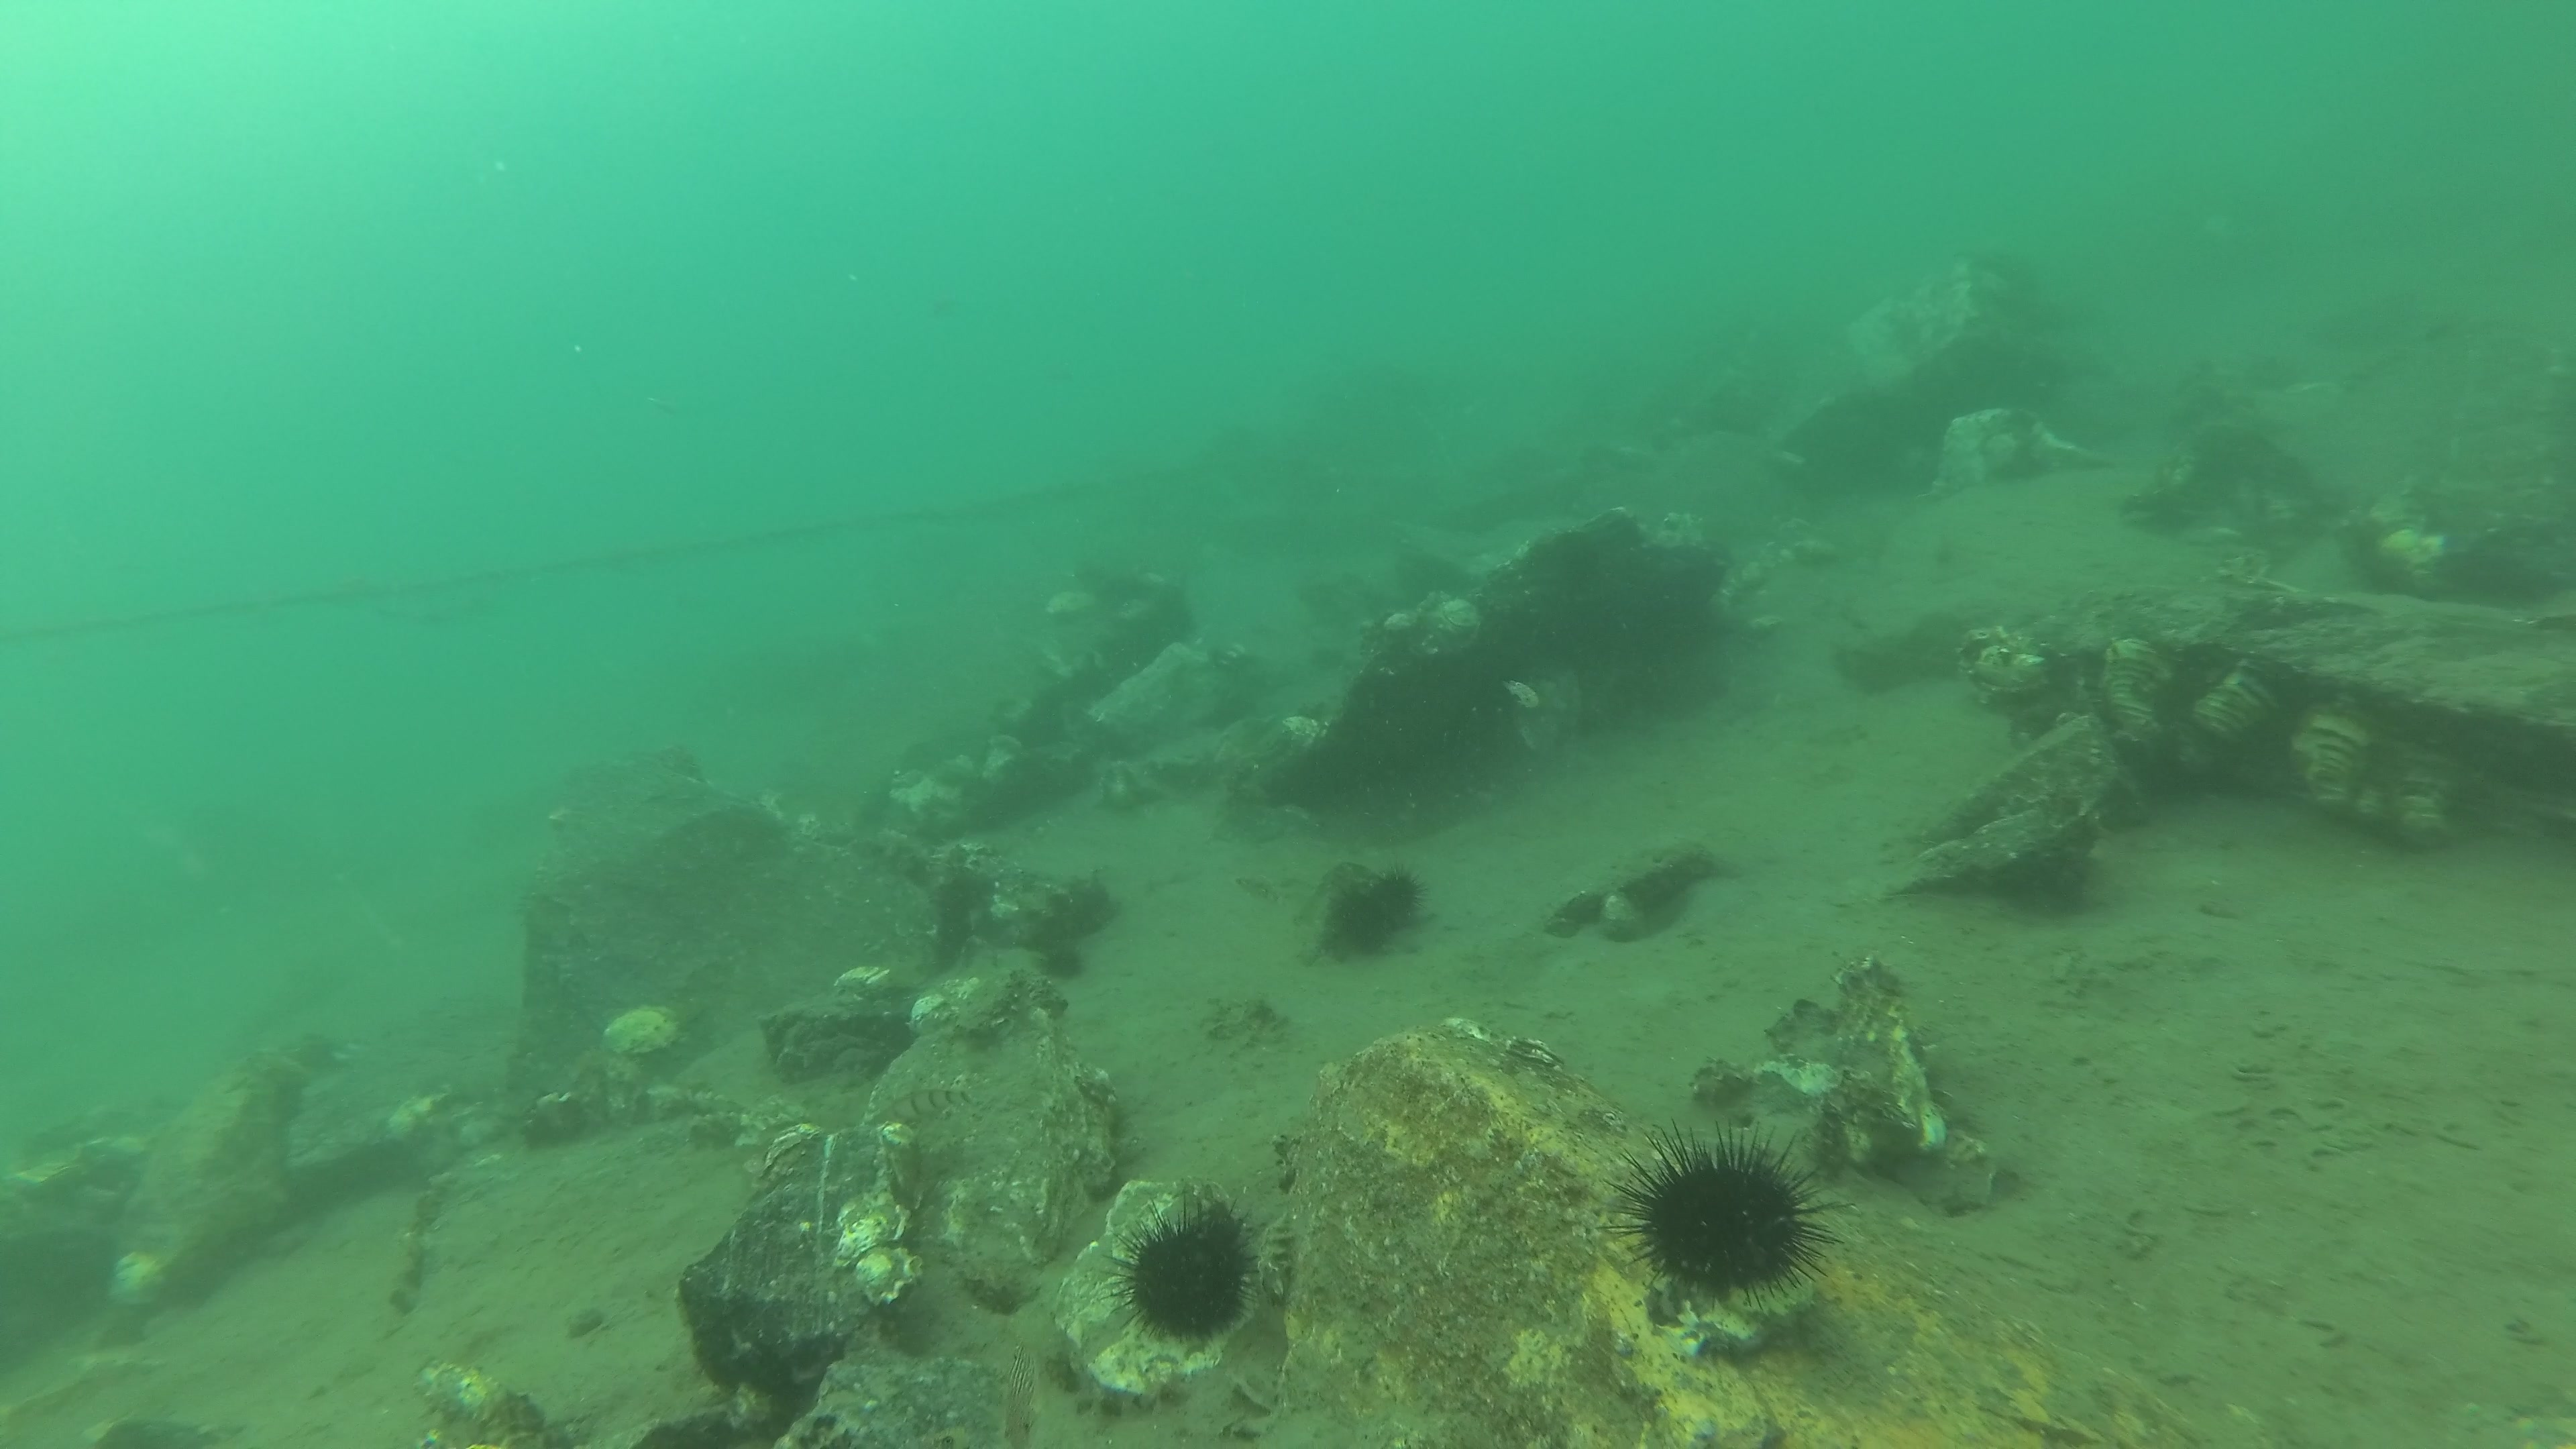echinus: (1596, 1116, 1856, 1311), (1097, 1184, 1263, 1350), (1330, 883, 1394, 955), (1373, 855, 1435, 925), (1550, 525, 1598, 591), (1040, 945, 1088, 980)
